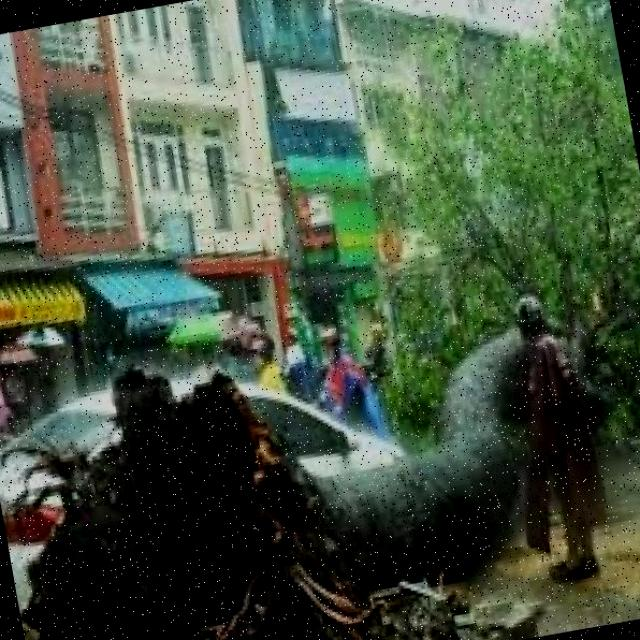fallen_object: (4, 207, 640, 640)
